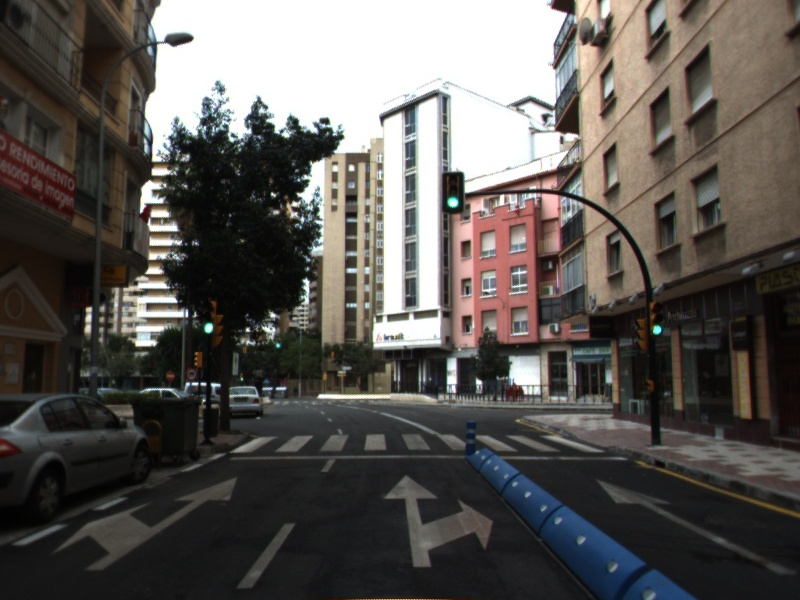STRAIGHT: (593, 476, 794, 575)
STRAIGHT_LEFT: (47, 473, 241, 574)
STRAIGHT_RIGHT: (380, 472, 497, 570)
